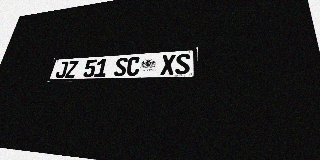plate: (47, 47, 198, 82)
